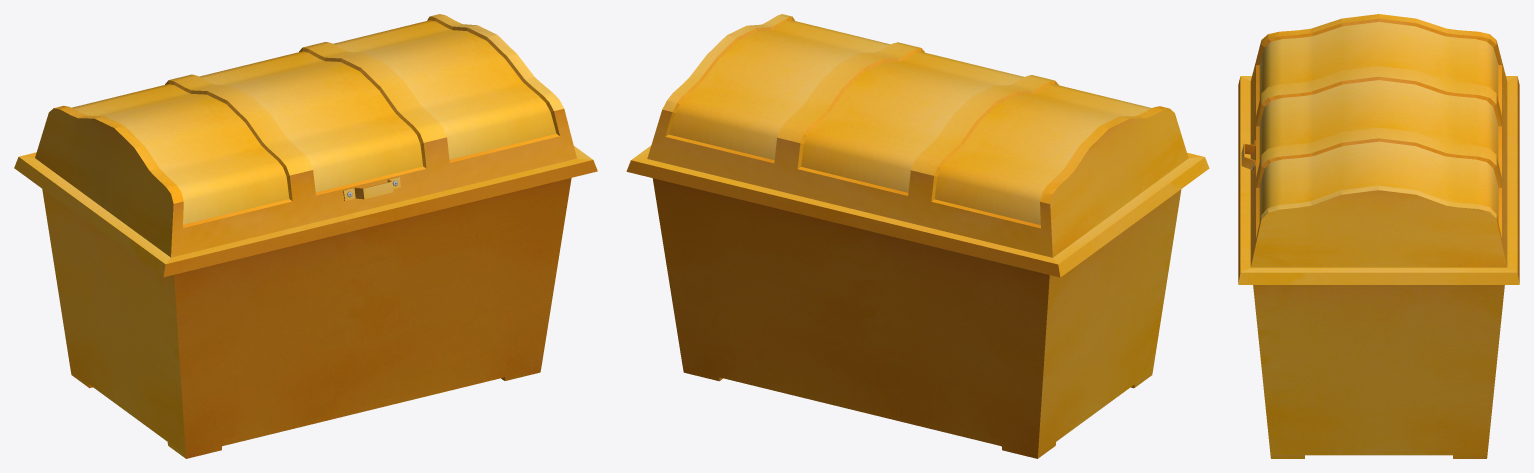
3 renders of one model, left to right at view 1: azimuth 30°, elevation 25°; view 2: azimuth 150°, elevation 25°; view 3: azimuth 270°, elevation 25°, orthographic. The views are drawn at different scales.
Visible parts, largest first — view 1: MainBuilding; view 2: MainBuilding; view 3: MainBuilding.
Boxes of the visible parts, x1,y1,x2,y2 form: MainBuilding: (14,14,597,458); MainBuilding: (626,14,1209,458); MainBuilding: (1238,14,1519,458).
Bounding box in the file's own units: 1.62 × 1.04 × 0.9655.
Materials: 1 (1 with a texture image).
